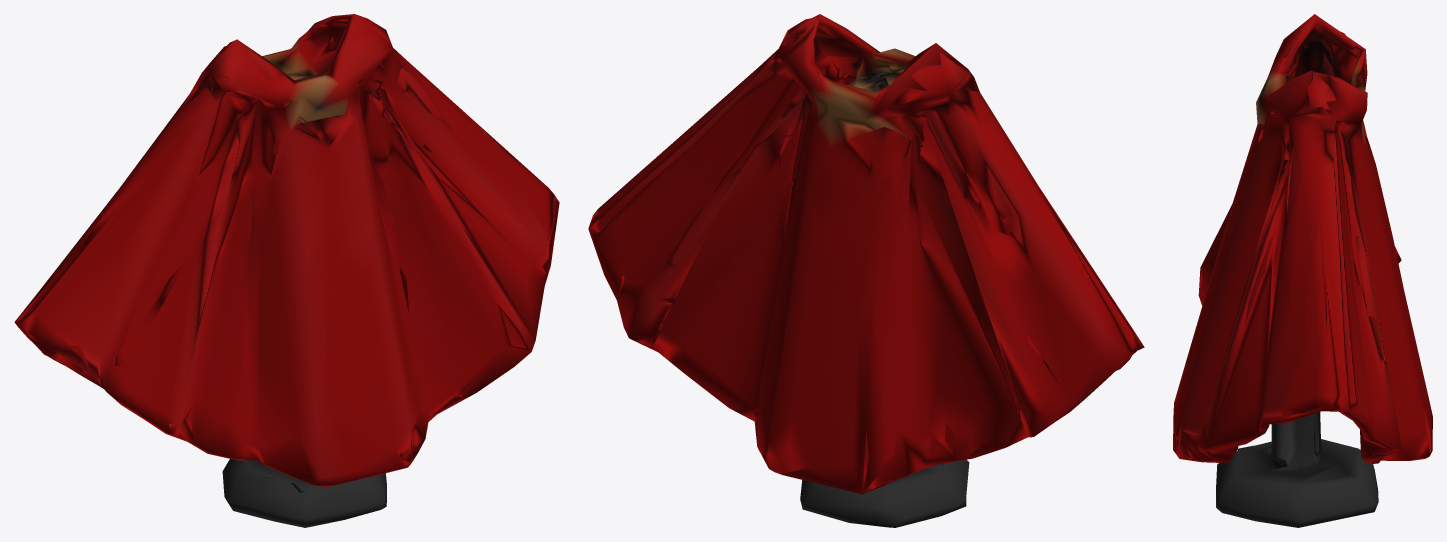
Rendered from gen3d-cape-lod0.glb.
3 renders of one model, left to right at view 1: azimuth 30°, elevation 25°; view 2: azimuth 150°, elevation 25°; view 3: azimuth 270°, elevation 25°, orthographic. The views are drawn at different scales.
Parts seen in each view (by area): view 1: part_0; view 2: part_0; view 3: part_0.
Part boxes in pixels (x1=…): part_0: x1=14, y1=14, x2=559, y2=527; part_0: x1=588, y1=14, x2=1144, y2=527; part_0: x1=1173, y1=14, x2=1432, y2=527.
Bounding box in the file's own units: 1.22 × 0.9997 × 0.5215.
